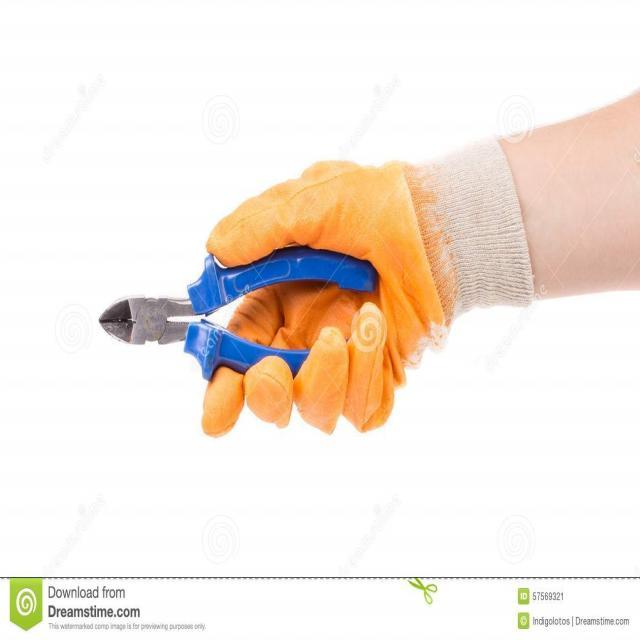pliers: (95, 242, 382, 380)
